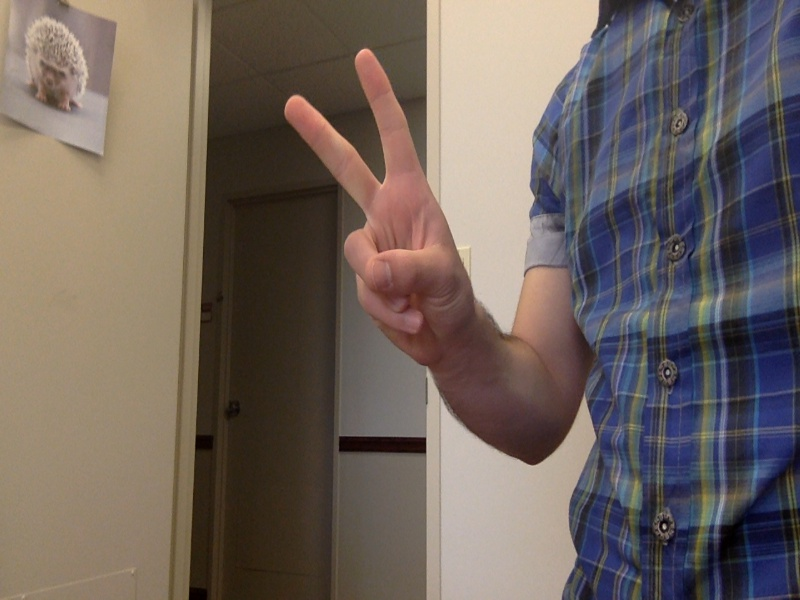2-hand: (280, 47, 471, 364)
